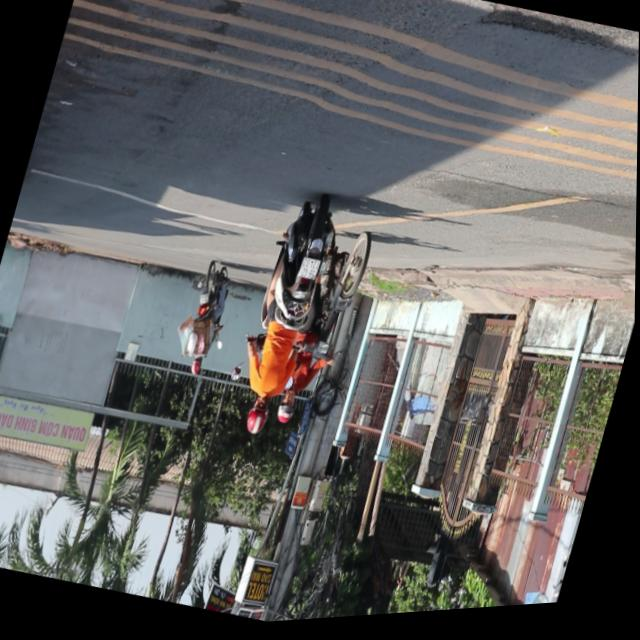helmet: (244, 398, 276, 441), (276, 393, 301, 432)
licenseplate: (224, 192, 349, 449), (275, 228, 378, 443)
nohelmet: (298, 260, 321, 285)
